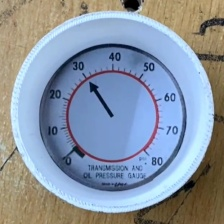gauge: (41, 45, 184, 191)
